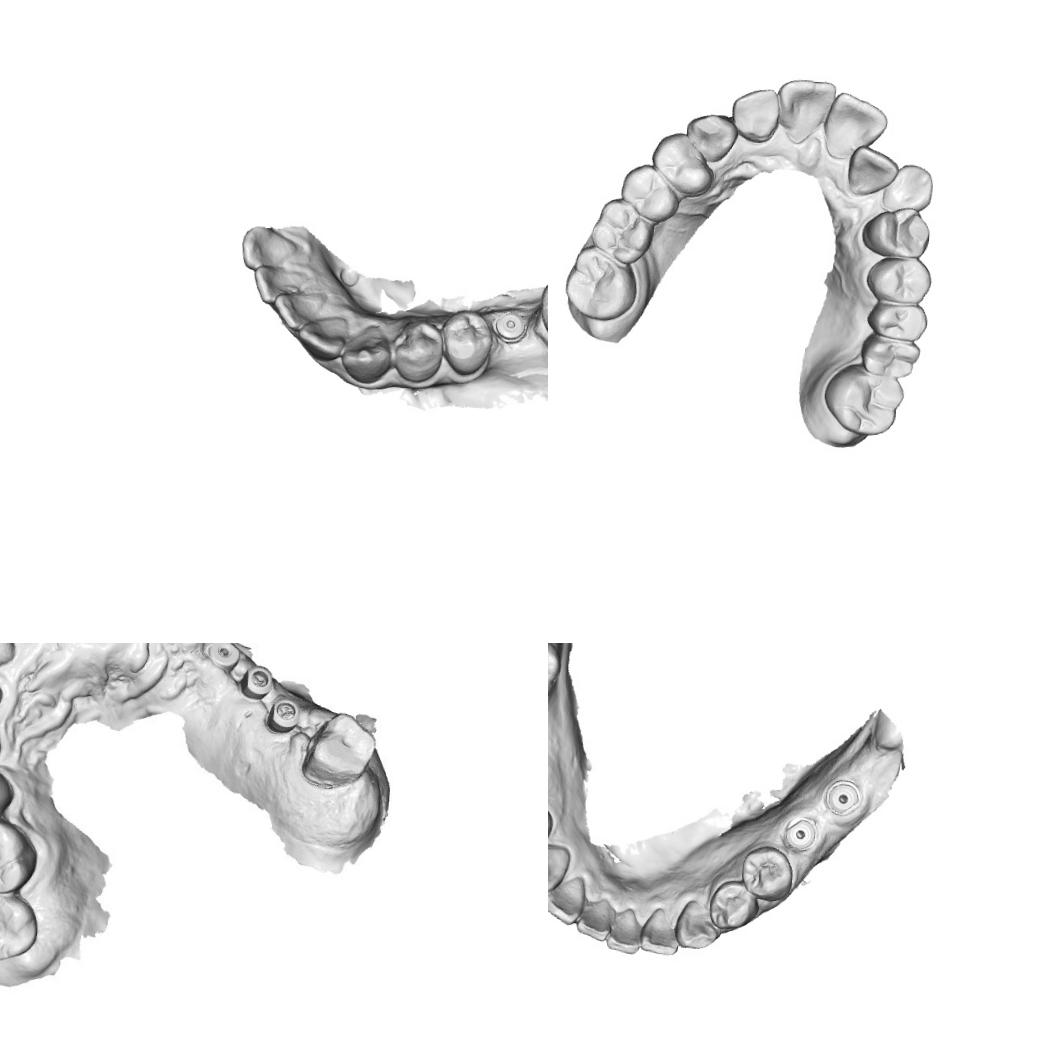canine: (337, 322, 394, 386), (878, 161, 935, 216), (682, 110, 739, 164), (672, 898, 720, 950), (548, 841, 571, 896)
crown: (297, 709, 382, 794)
implant: (779, 811, 819, 854), (822, 777, 863, 818), (489, 308, 529, 345), (198, 643, 243, 674), (267, 696, 301, 734), (241, 664, 276, 697)
incisor: (821, 89, 889, 162), (774, 76, 836, 146), (844, 142, 901, 201), (728, 84, 781, 144), (238, 224, 301, 274), (250, 261, 314, 307), (270, 286, 330, 335), (294, 311, 350, 362), (638, 904, 682, 956), (548, 871, 587, 925), (604, 904, 644, 956), (575, 896, 613, 942)
molar: (820, 361, 906, 438), (561, 242, 639, 324), (588, 194, 656, 266), (0, 886, 41, 967), (0, 815, 40, 897), (858, 332, 922, 380), (863, 299, 929, 342)
premolar: (647, 129, 717, 199), (438, 305, 498, 380), (616, 161, 682, 225), (858, 203, 932, 259), (388, 316, 446, 384), (738, 842, 796, 904), (864, 253, 932, 305), (706, 876, 761, 933)
